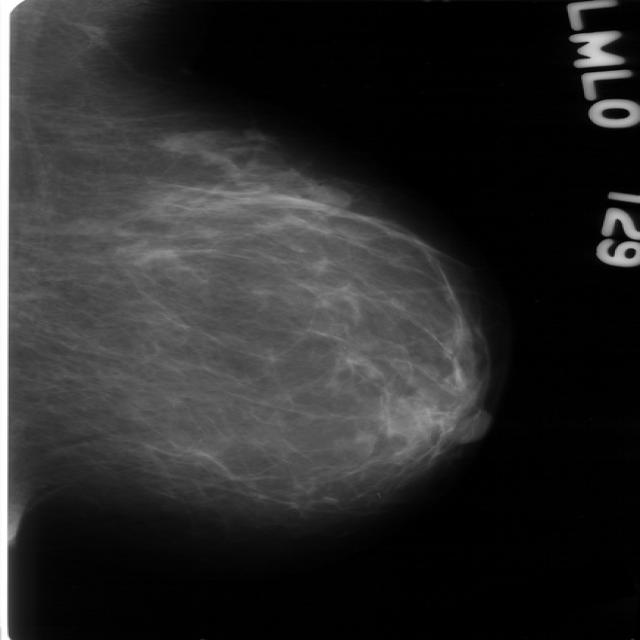tumour: (303, 184, 350, 217)
